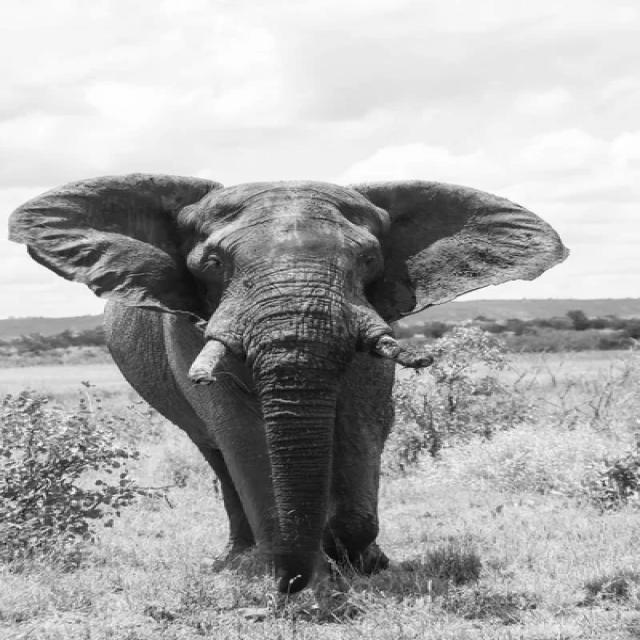Animal: (8, 174, 568, 592)
